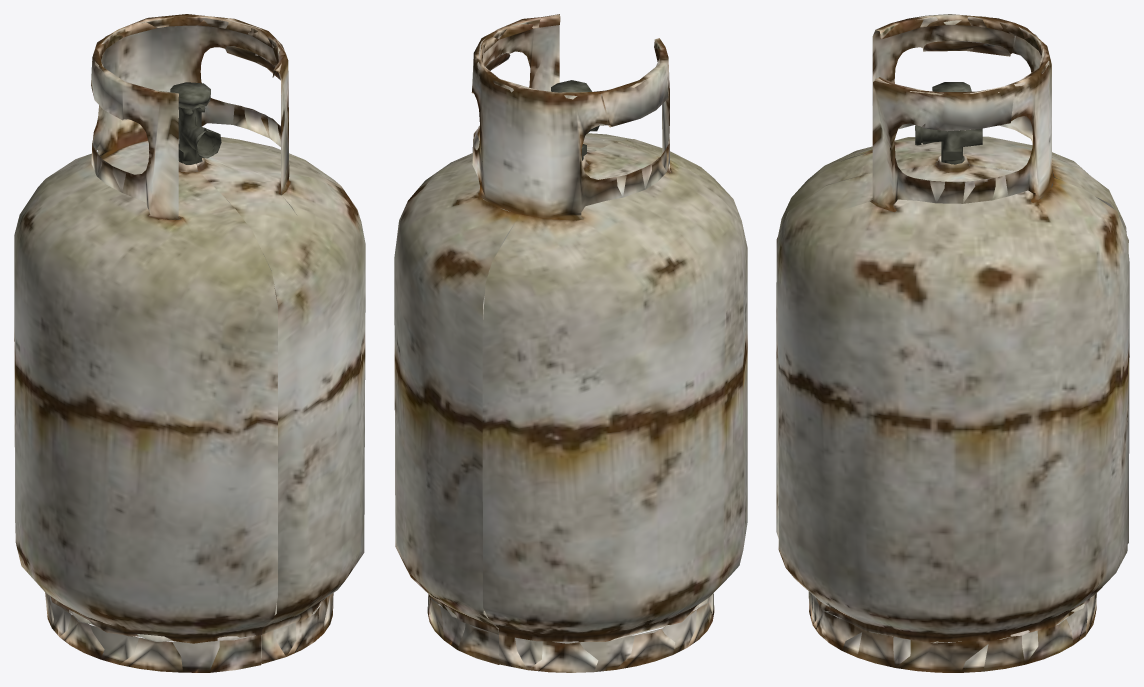
File: butane-cylinder.glb
3 views of the same model, side by side, from view 1: azimuth 30°, elevation 25°; view 2: azimuth 150°, elevation 25°; view 3: azimuth 270°, elevation 25° (orthographic).
Visible parts, largest first — view 1: butane; view 2: butane; view 3: butane.
Boxes of the visible parts, x1,y1,x2,y2 form: butane: (14,14,365,672); butane: (394,14,747,672); butane: (776,14,1129,672).
Size of the model in its own units: 0.3446 by 0.6006 by 0.3439.
1 material, 1 textured.
